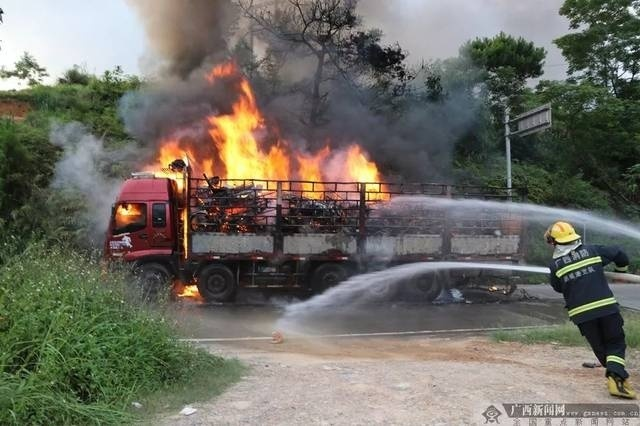fire: (151, 140, 196, 191), (344, 144, 383, 199), (175, 279, 201, 299), (115, 200, 140, 219)
